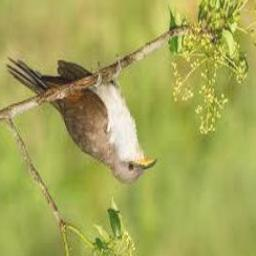Cuckoo: (5, 61, 157, 184)
